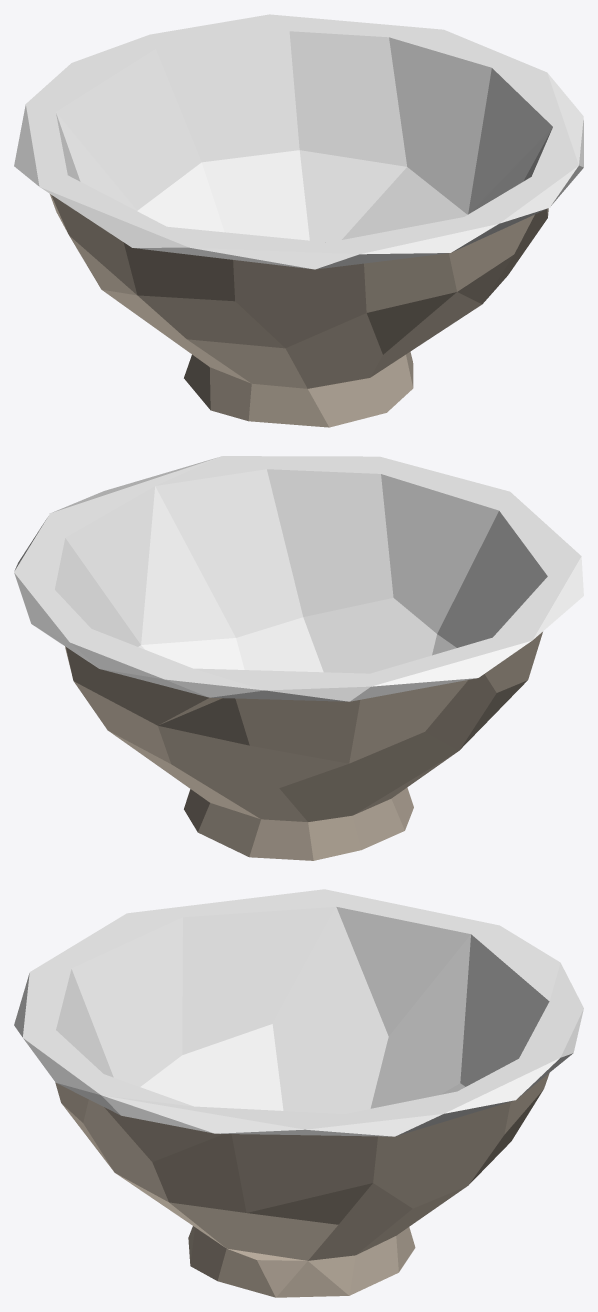
The model's file is CerealBowlWhite.fbx.
The picture shows the model from 3 angles, top to bottom: view 1: azimuth 30°, elevation 25°; view 2: azimuth 150°, elevation 25°; view 3: azimuth 270°, elevation 25°; orthographic projection.
Visible parts, largest first — view 1: CerealBowlLowPolyWhite; view 2: CerealBowlLowPolyWhite; view 3: CerealBowlLowPolyWhite.
Boxes of the visible parts, x1,y1,x2,y2 form: CerealBowlLowPolyWhite: (14, 14, 583, 427); CerealBowlLowPolyWhite: (14, 456, 583, 860); CerealBowlLowPolyWhite: (14, 889, 583, 1297).
Bounding box in the file's own units: 15.75 × 7.4 × 15.77.
